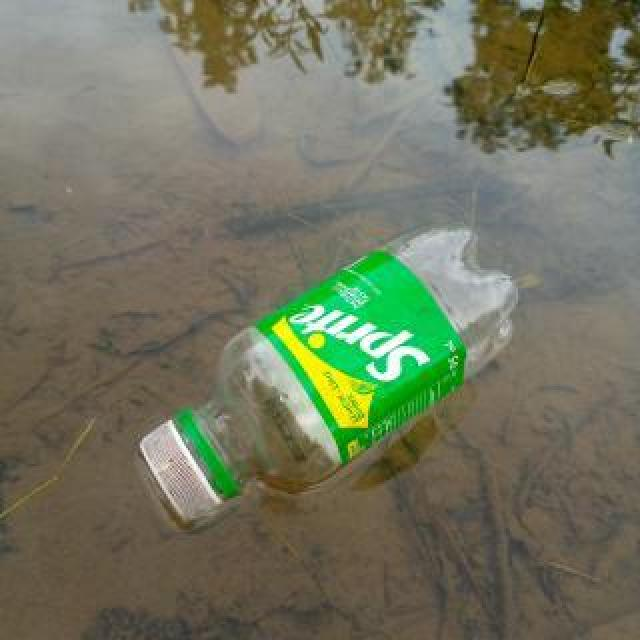bottle: (133, 216, 519, 526)
